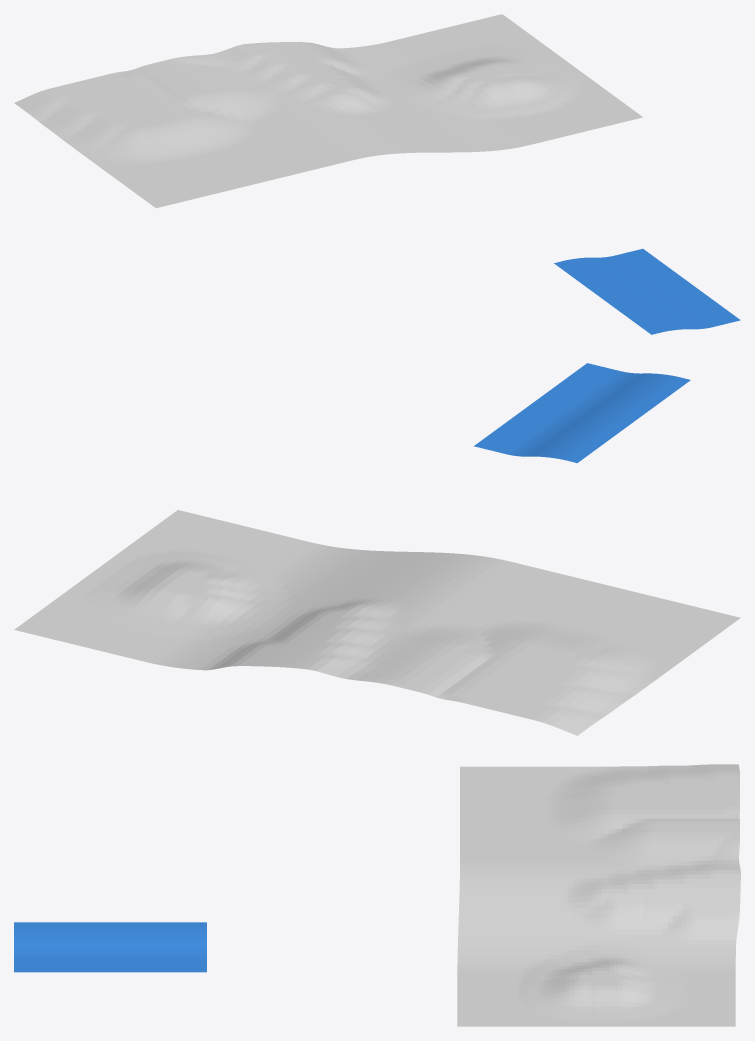
The picture shows the model from 3 angles, top to bottom: view 1: azimuth 30°, elevation 25°; view 2: azimuth 150°, elevation 25°; view 3: azimuth 270°, elevation 25°; orthographic projection. The views are drawn at different scales.
Visible parts, largest first — view 1: Plane.001, Plane; view 2: Plane.001, Plane; view 3: Plane.001, Plane.
Part boxes in pixels (<box>): Plane.001: <box>14,14,642,208</box>; Plane: <box>554,248,740,334</box>; Plane.001: <box>14,510,740,735</box>; Plane: <box>474,363,690,463</box>; Plane.001: <box>457,764,740,1026</box>; Plane: <box>14,922,206,972</box>.
Size of the model in its own units: 39.82 by 3.2 by 52.26.
